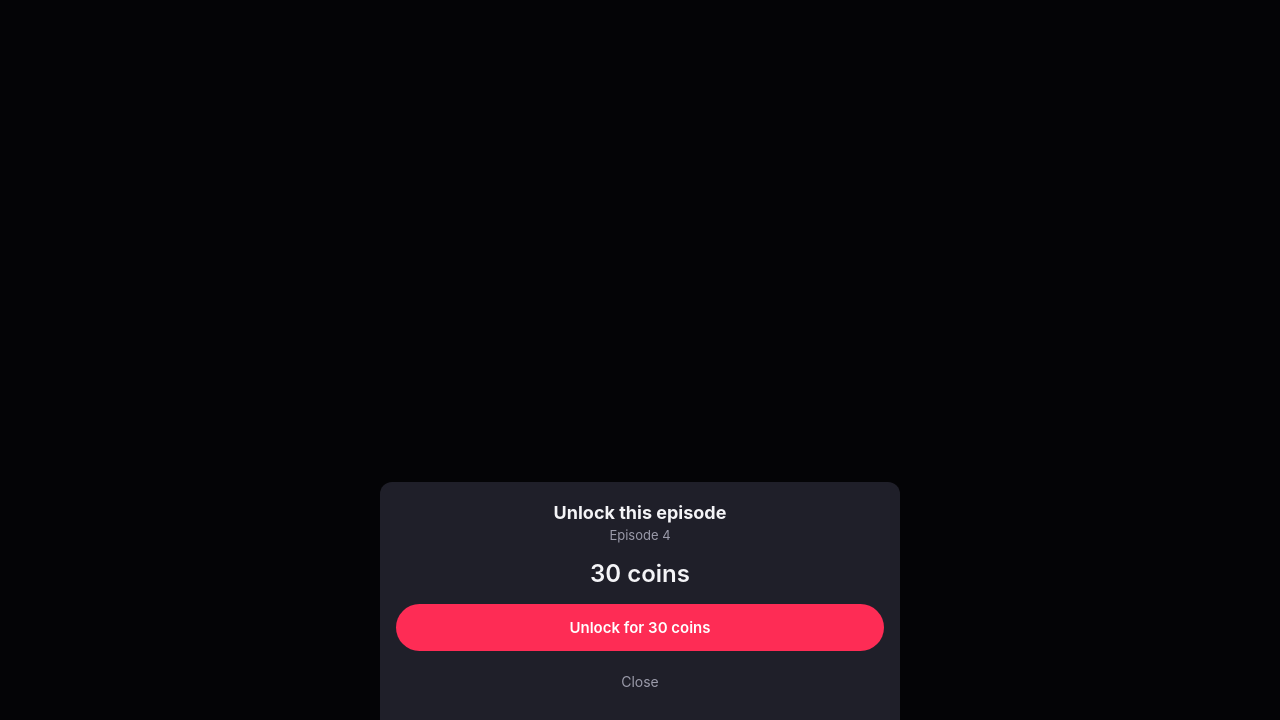
Test: the coin channel › reports the stage it is at while the purchase is in flight
Click the button with test id "unlock-confirm" at (640, 628), box [396,604,884,651]
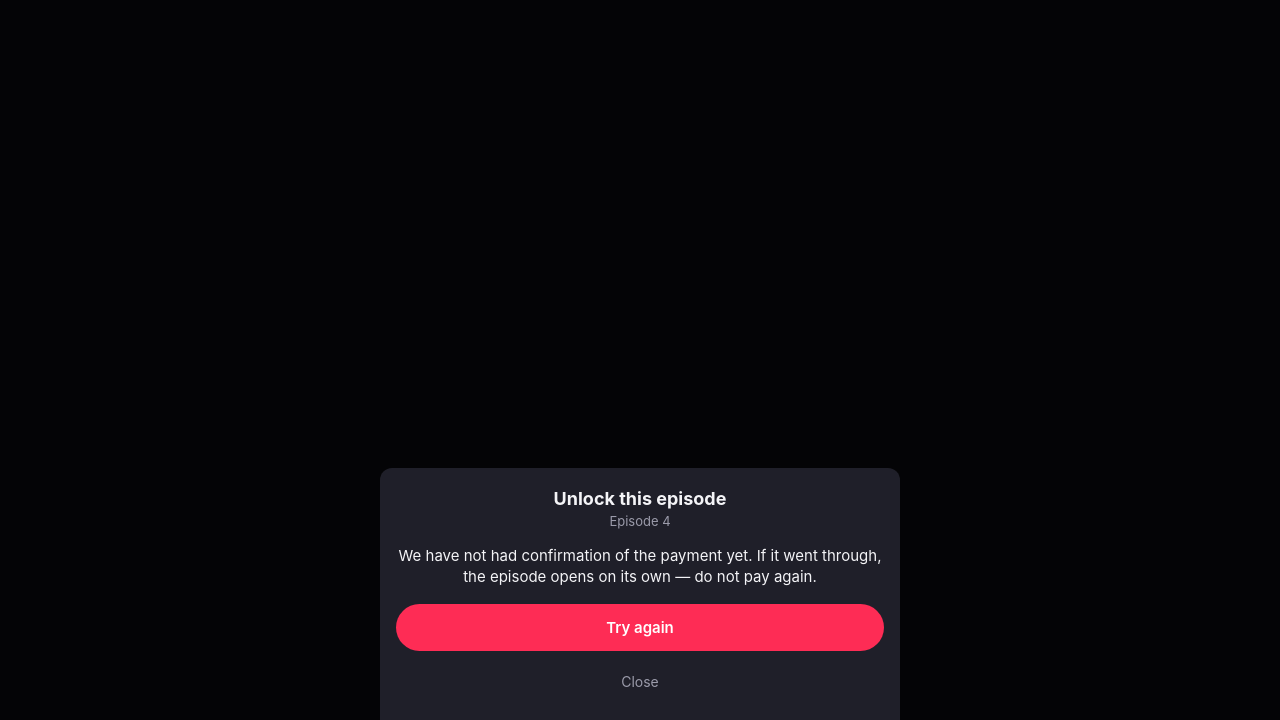
Result: the button with test id "unlock-confirm" is gone
